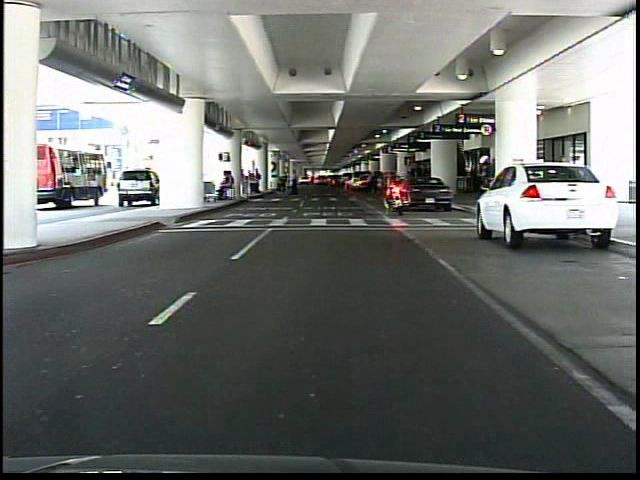person: (470, 149, 497, 225)
